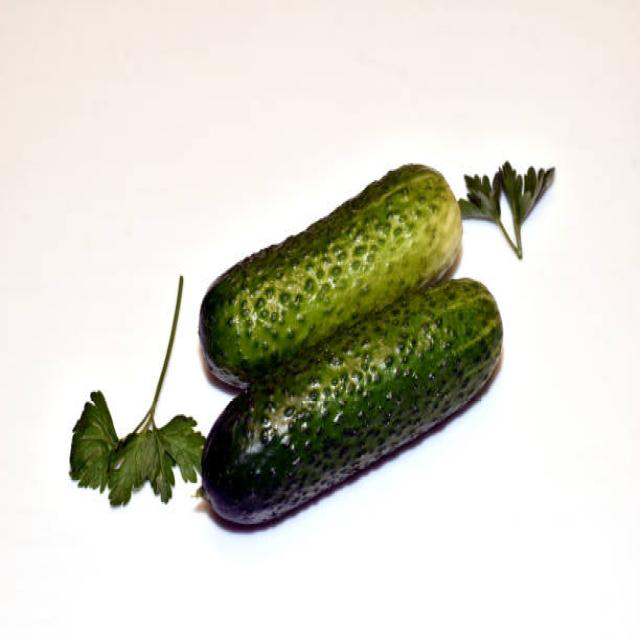cucumber: (200, 162, 502, 528)
